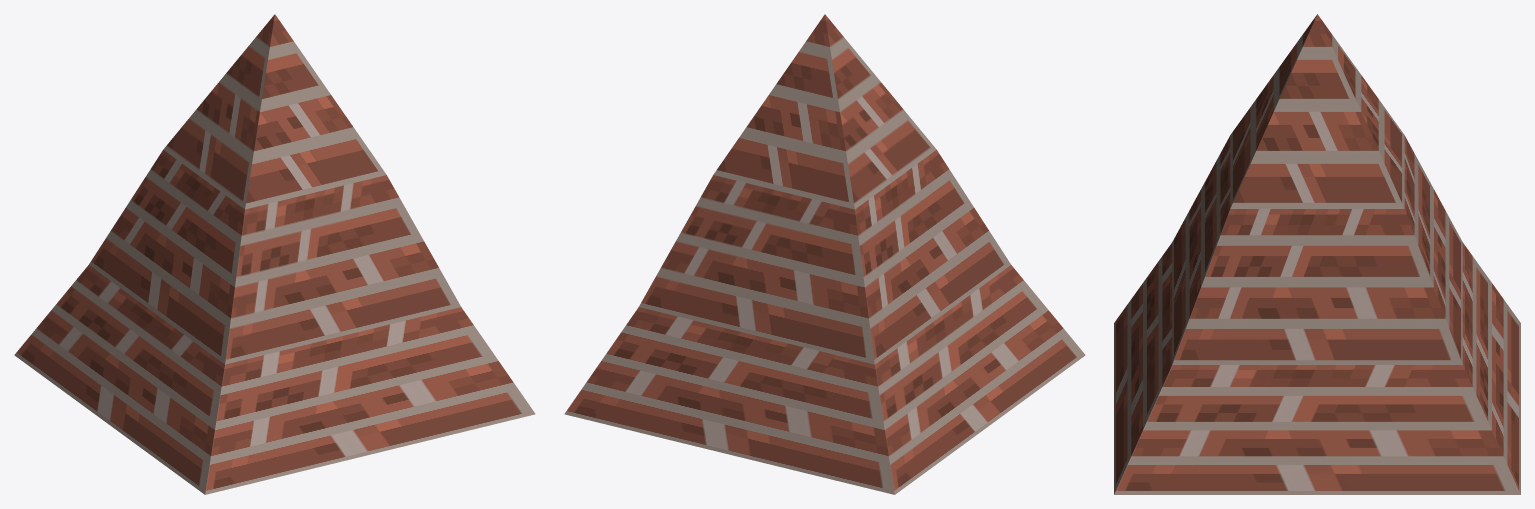
The model's file is shrine.obj.
3 views of the same model, side by side, from view 1: azimuth 30°, elevation 25°; view 2: azimuth 150°, elevation 25°; view 3: azimuth 270°, elevation 25° (orthographic). The views are drawn at different scales.
Parts seen in each view (by area): view 1: Shrine; view 2: Shrine; view 3: Shrine.
Boxes of the visible parts, x1=… form: Shrine: x1=14, y1=14, x2=535, y2=494; Shrine: x1=564, y1=14, x2=1085, y2=494; Shrine: x1=1114, y1=14, x2=1520, y2=494.
Size of the model in its own units: 2.8 by 3 by 2.8.
Materials: 1 (1 with a texture image).
